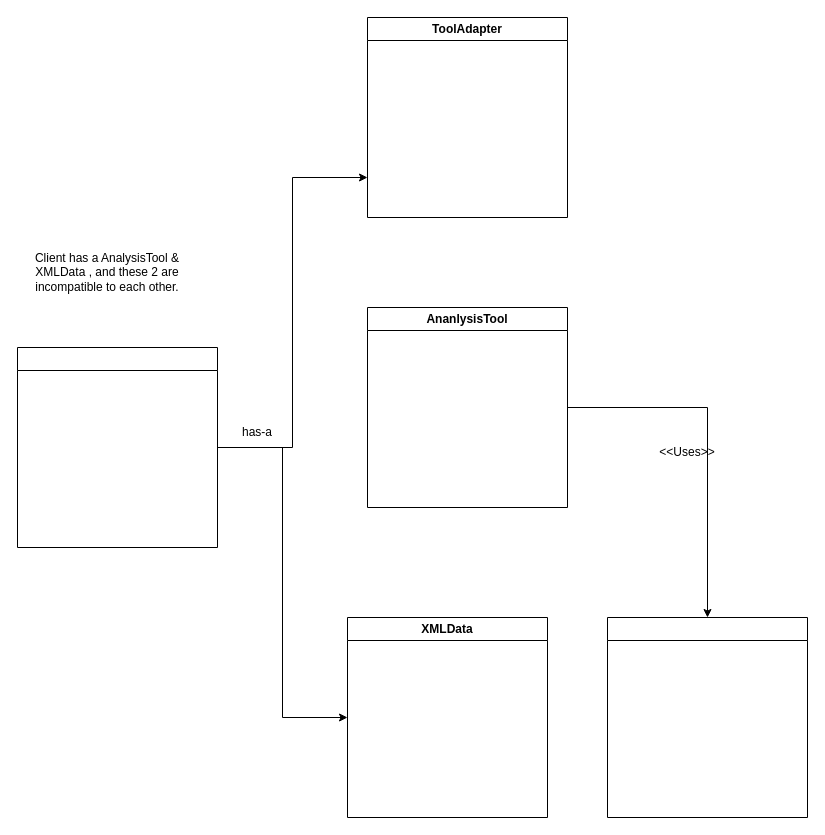
Image size: 825x835. Some labels were removed from this diagram. Each missing label, with the centre of its shape:
Client: pixel 117 447
JSONData: pixel 707 717
